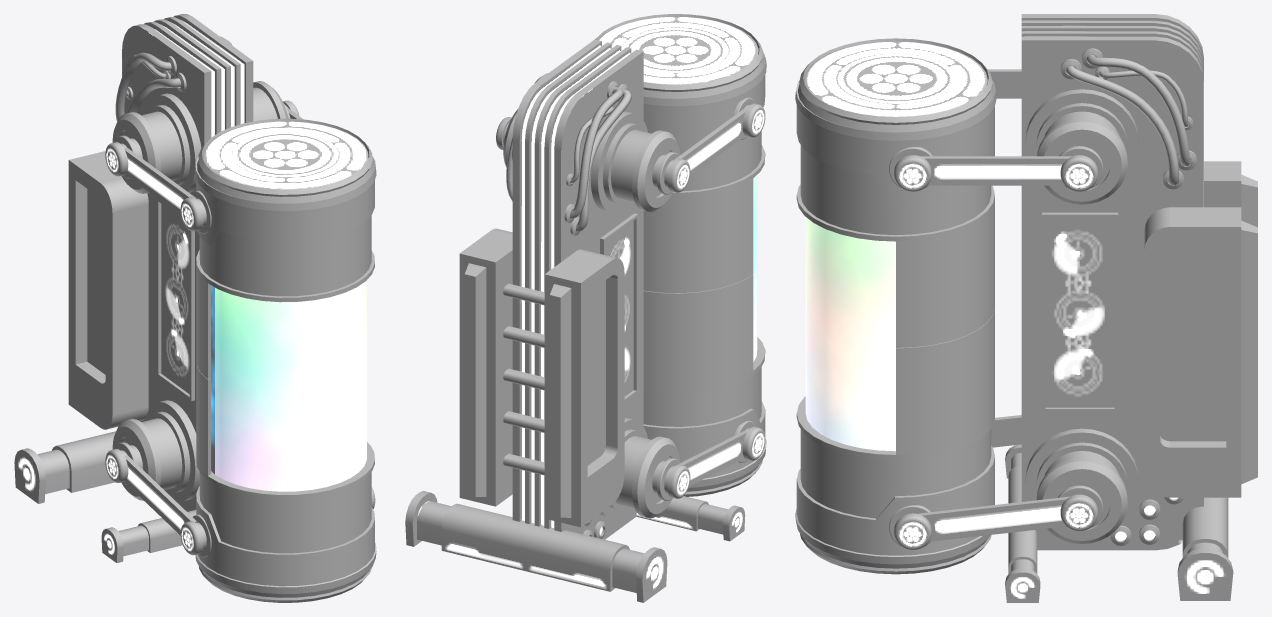
The model's file is SM_Generator6S.fbx.
3 renders of one model, left to right at view 1: azimuth 30°, elevation 25°; view 2: azimuth 150°, elevation 25°; view 3: azimuth 270°, elevation 25°, orthographic. The views are drawn at different scales.
Visible parts, largest first — view 1: SM_Generator6S_LOD0; view 2: SM_Generator6S_LOD0; view 3: SM_Generator6S_LOD0.
Boxes of the visible parts, x1=… form: SM_Generator6S_LOD0: x1=14, y1=14, x2=376, y2=602; SM_Generator6S_LOD0: x1=405, y1=14, x2=766, y2=602; SM_Generator6S_LOD0: x1=795, y1=14, x2=1257, y2=602.
Size of the model in its own units: 146 by 222 by 271.
